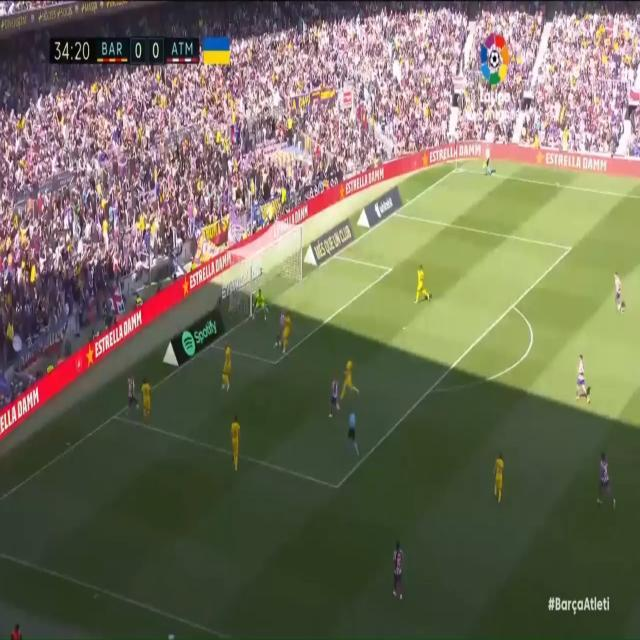player: (595, 443, 619, 514), (569, 346, 592, 409), (214, 336, 236, 398), (389, 530, 406, 602), (488, 449, 509, 507), (227, 405, 244, 474), (340, 351, 358, 411), (250, 280, 271, 329), (119, 368, 139, 419), (413, 259, 432, 310), (140, 370, 155, 426), (327, 367, 340, 429), (612, 269, 626, 317), (274, 305, 285, 357), (284, 308, 294, 361)
referee: (346, 404, 361, 462), (480, 139, 494, 183)
